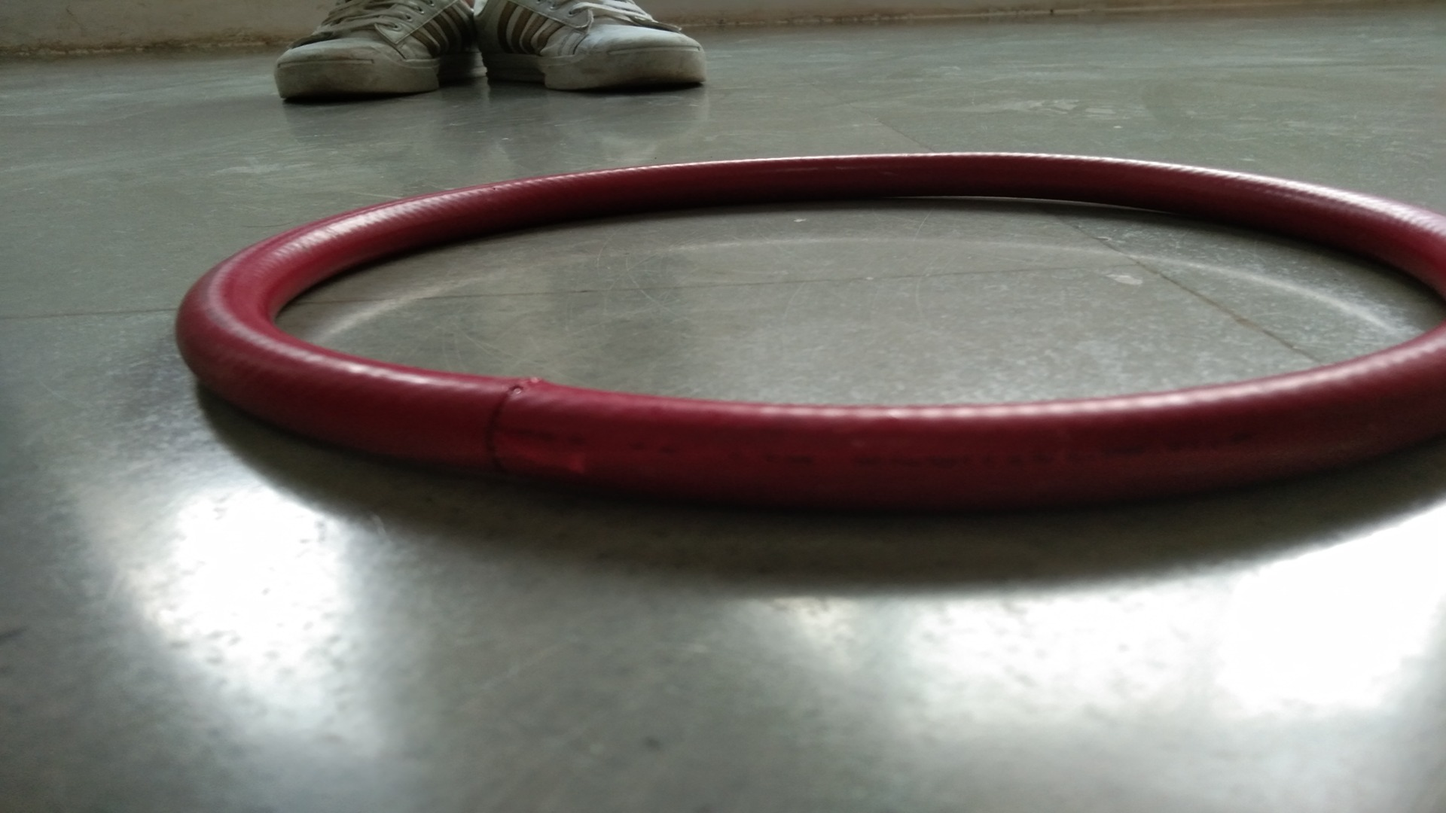Red ring: (170, 151, 1446, 503)
